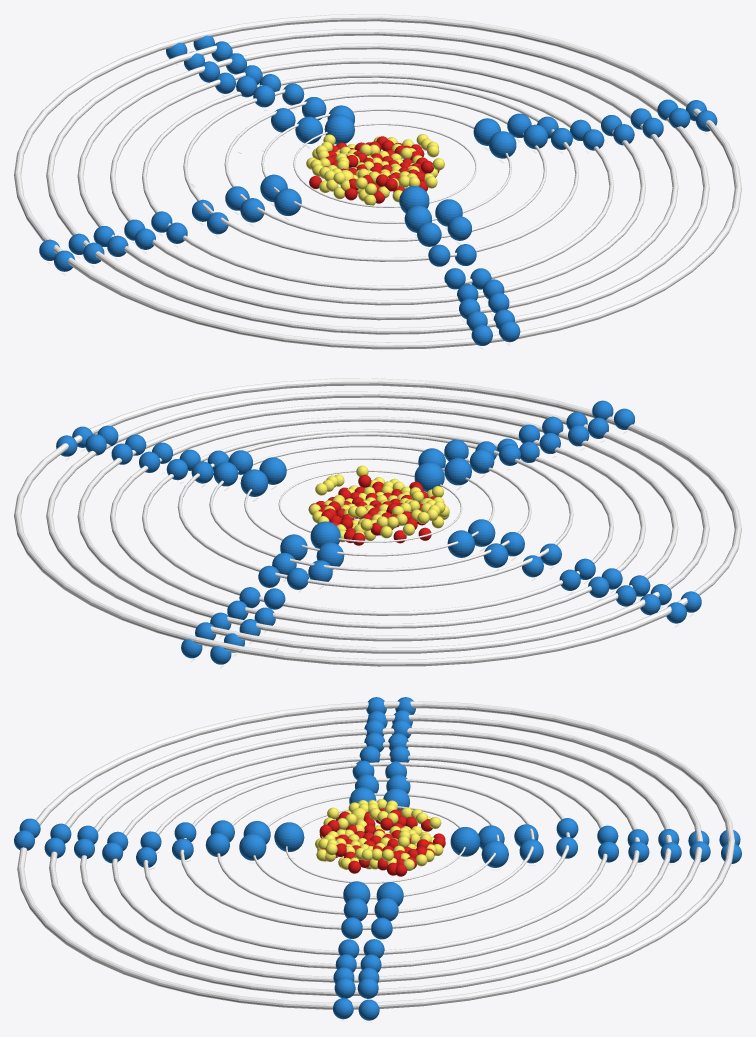
3 views of the same model, one above another, from view 1: azimuth 30°, elevation 25°; view 2: azimuth 150°, elevation 25°; view 3: azimuth 270°, elevation 25° (orthographic).
Parts seen in each view (by area): view 1: Torus.009, Torus.008, Torus.007, Torus.006, Torus.005, Torus.004, Torus.003, Torus.002, Torus.001, g, g.005, g.003 (+2 smaller); view 2: Torus.009, Torus.008, Torus.007, Torus.006, Torus.005, Torus.004, Torus.003, Torus.002, Torus.001, g.001, g, g.006 (+7 smaller); view 3: Torus.009, Torus.008, Torus.007, Torus.006, Torus.005, Torus.004, Torus.003, Torus.002, g.001, g, Torus.001, g.007 (+1 smaller).
Boxes of the visible parts, bbox=[...] form: Torus.009: bbox=[14, 14, 741, 349]; Torus.008: bbox=[46, 29, 709, 334]; Torus.007: bbox=[77, 43, 678, 320]; Torus.006: bbox=[110, 58, 645, 305]; Torus.005: bbox=[142, 73, 613, 290]; Torus.004: bbox=[183, 79, 578, 261]; Torus.003: bbox=[224, 93, 546, 241]; Torus.002: bbox=[261, 108, 511, 223]; Torus.001: bbox=[293, 123, 476, 207]; g: bbox=[324, 114, 354, 144]; g.005: bbox=[489, 131, 516, 158]; g.003: bbox=[274, 188, 301, 215]; Torus.009: bbox=[14, 378, 741, 666]; Torus.008: bbox=[46, 391, 709, 653]; Torus.007: bbox=[77, 403, 678, 641]; Torus.006: bbox=[110, 416, 645, 628]; Torus.005: bbox=[142, 429, 613, 615]; Torus.004: bbox=[177, 432, 573, 588]; Torus.003: bbox=[209, 444, 531, 571]; Torus.002: bbox=[244, 457, 494, 556]; Torus.001: bbox=[278, 470, 462, 542]; g.001: bbox=[414, 462, 444, 492]; g: bbox=[310, 521, 340, 548]; g.006: bbox=[444, 458, 471, 485]; Torus.009: bbox=[17, 701, 734, 1009]; Torus.008: bbox=[49, 714, 702, 995]; Torus.007: bbox=[80, 728, 671, 982]; Torus.006: bbox=[111, 741, 639, 968]; Torus.005: bbox=[143, 755, 607, 955]; Torus.004: bbox=[180, 762, 570, 929]; Torus.003: bbox=[217, 778, 534, 914]; Torus.002: bbox=[253, 793, 499, 899]; g.001: bbox=[274, 822, 304, 851]; g: bbox=[450, 827, 480, 856]; Torus.001: bbox=[285, 806, 465, 883]; g.007: bbox=[239, 833, 266, 860].
Bounding box in the file's own units: 24.39 × 2.85 × 24.11.
